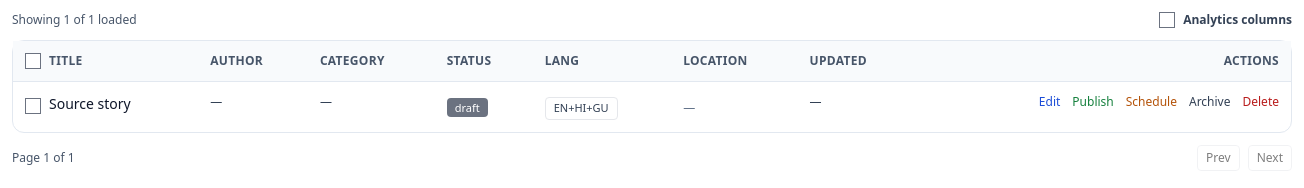
Test case: Manage News lifecycle actions › soft-deletes one group, then refreshes the active list without optimistic lifecycle state
Click the button "Delete" at (1261, 102), box [1242,94,1279,110]
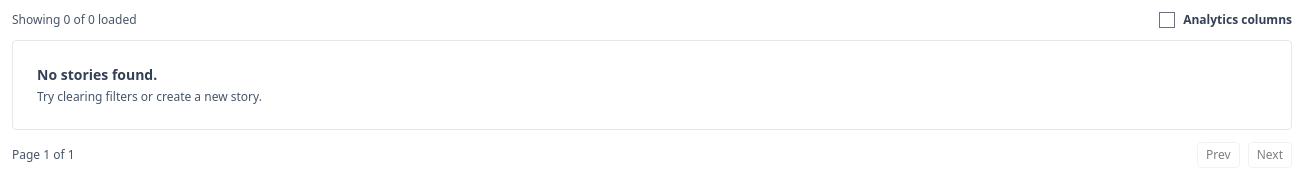
Expected: the text "No stories found." is shown, [37,65,157,84]
